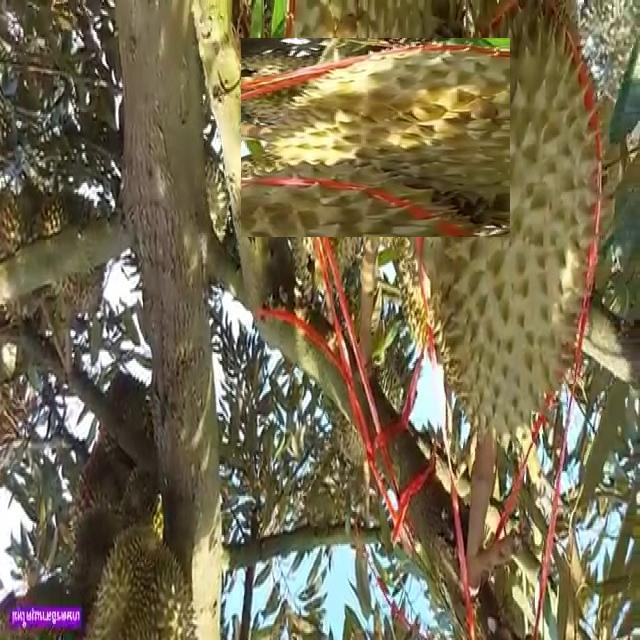durian: (398, 8, 611, 460), (258, 20, 493, 254)
